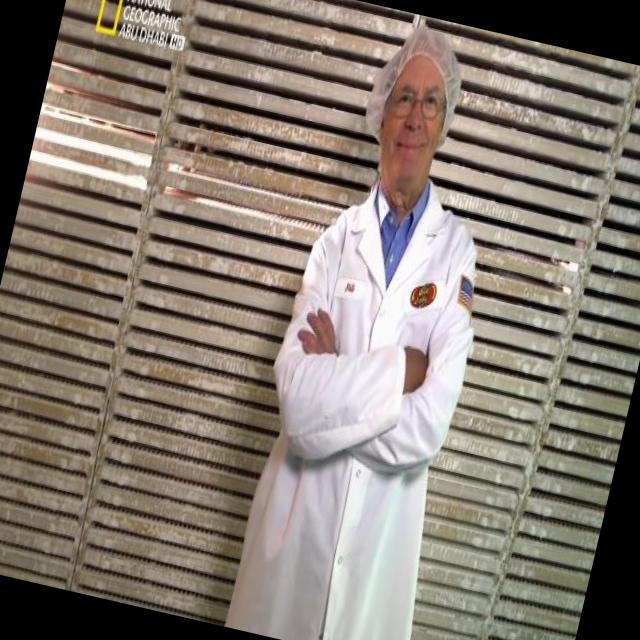hairnet: (372, 15, 474, 97)
